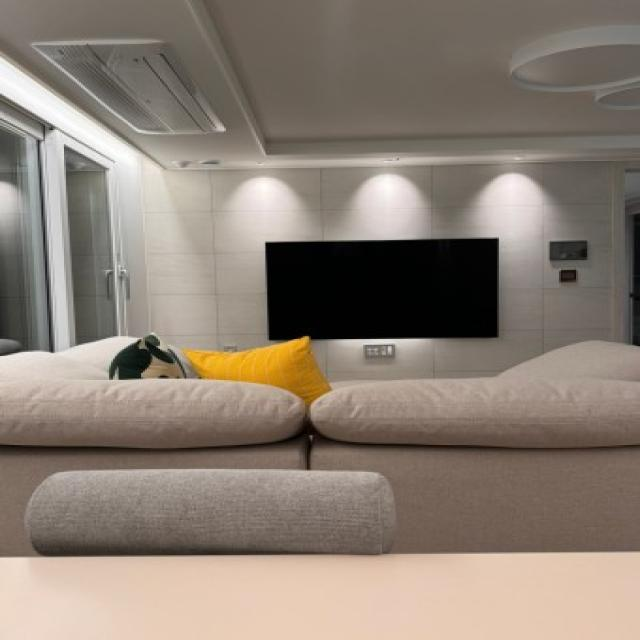Sofa: (4, 321, 640, 545)
tv: (264, 238, 504, 337)
